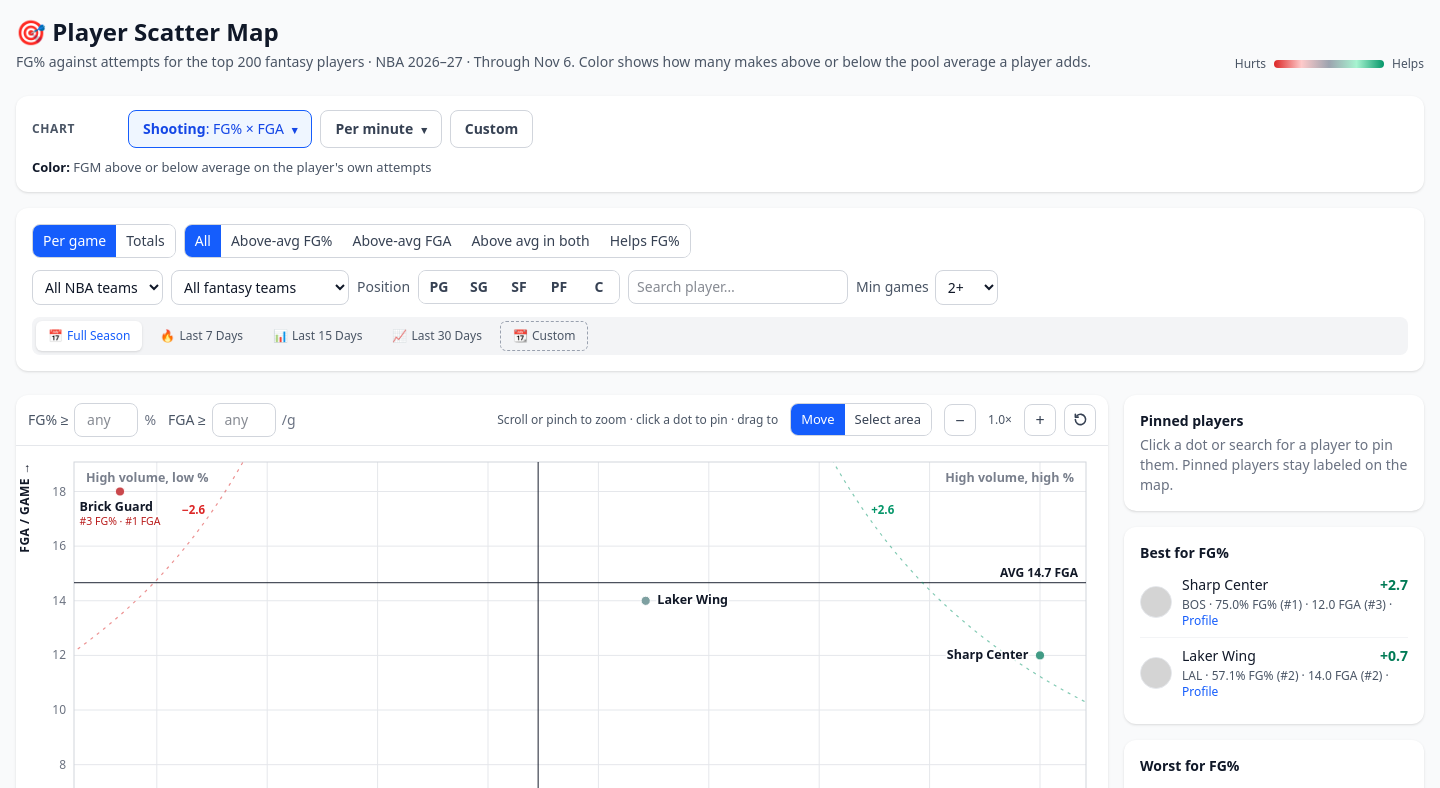
ShootingMap page › narrows the lists with the % and attempts thresholds, and clears them
The image size is (1440, 788).
Expected: the button "Sharp Center" is shown, [1182,574,1268,594]
// Sharp Center takes 12 FGA a game, Brick Guard 18
Type "15" into the number field named "Minimum FGA per game".
click(244, 420); type("15")  # box [212,402,276,436]
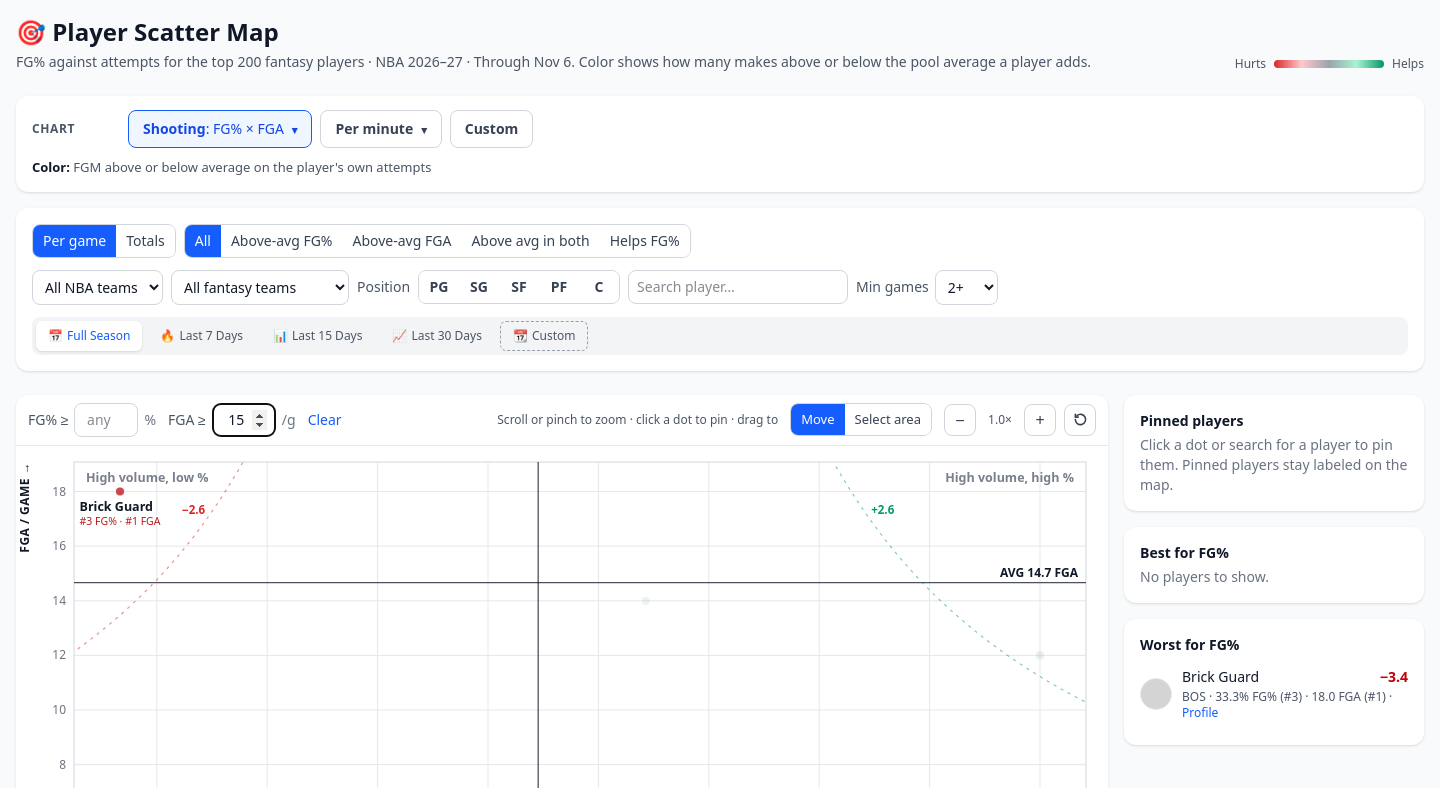
Expected: the button "Brick Guard" is shown, [1182,666,1259,686]
Click the button "Clear".
click(325, 420)  # box [308,410,342,430]
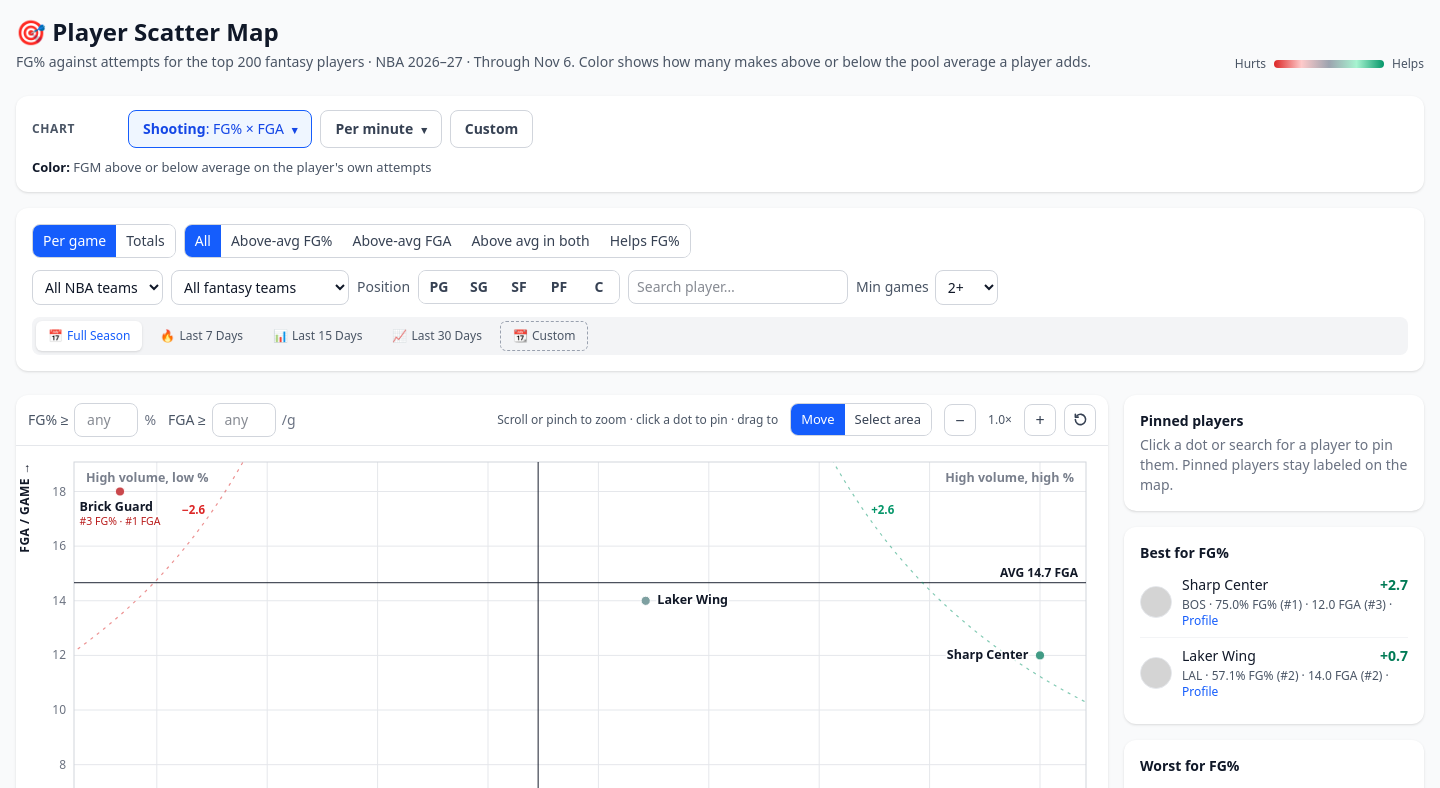
Expected: the number field named "Minimum FGA per game" is not empty, [212,402,276,436]
Expected: the button "Sharp Center" is shown, [1182,574,1268,594]
